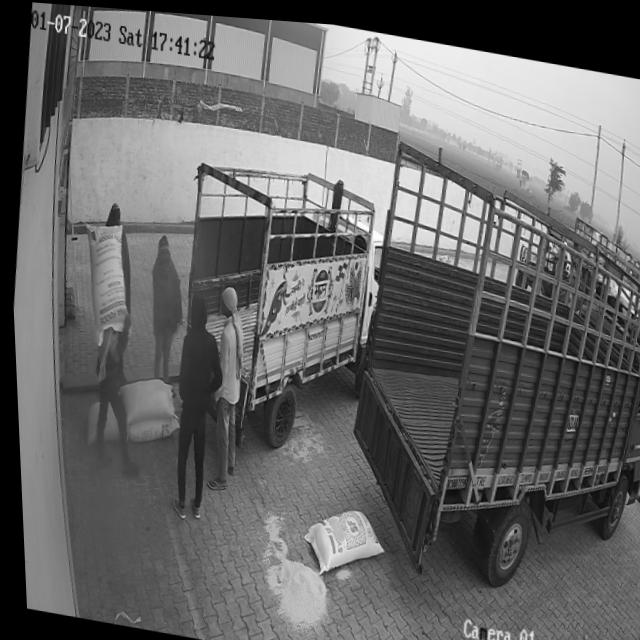sack: (73, 216, 135, 349), (294, 495, 383, 581), (111, 369, 173, 430), (121, 406, 176, 446)
